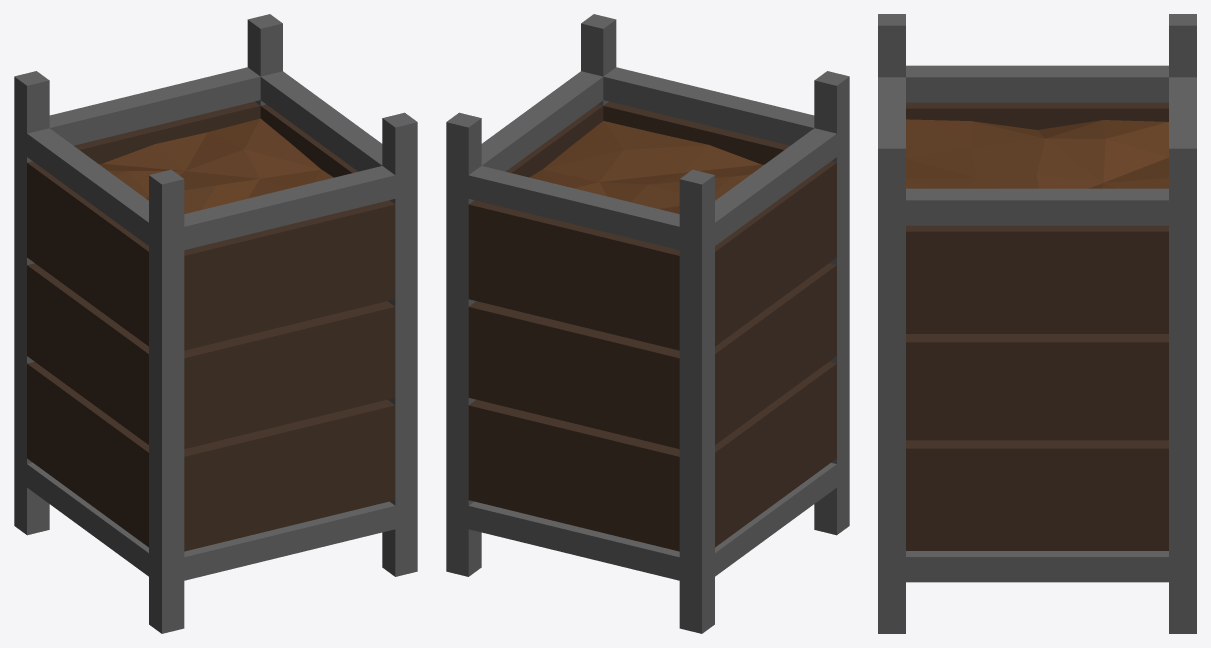
File: SmallPot.fbx
The picture shows the model from 3 angles, left to right: view 1: azimuth 30°, elevation 25°; view 2: azimuth 150°, elevation 25°; view 3: azimuth 270°, elevation 25°; orthographic projection. The views are drawn at different scales.
Visible parts, largest first — view 1: SmallPot; view 2: SmallPot; view 3: SmallPot.
Boxes of the visible parts, box(x1,y1,x2,y2) form: SmallPot: box(14, 14, 417, 633); SmallPot: box(446, 14, 849, 633); SmallPot: box(878, 14, 1196, 633).
Size of the model in its own units: 0.5958 by 0.5958 by 1.
